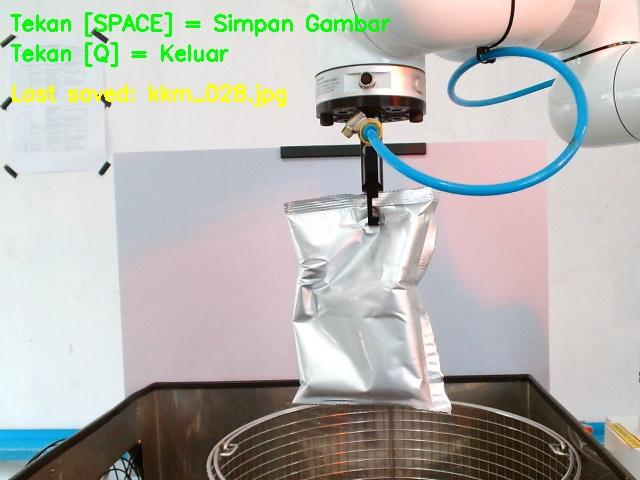retort-pouch: (282, 187, 454, 410)
